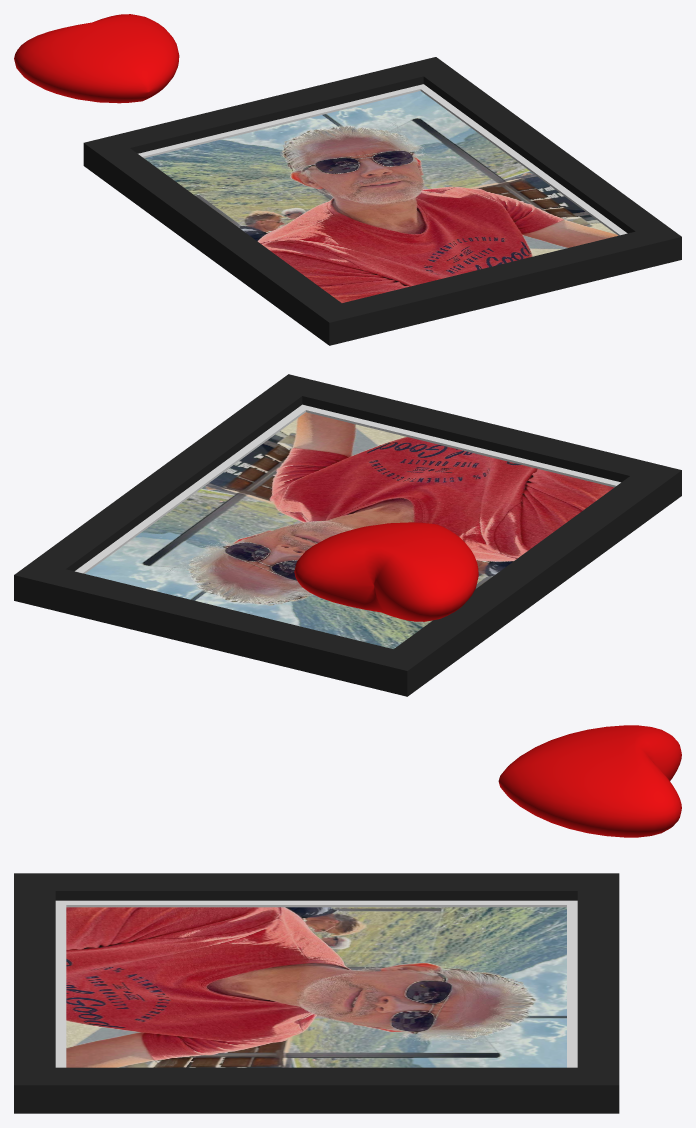
3 renders of one model, top to bottom at view 1: azimuth 30°, elevation 25°; view 2: azimuth 150°, elevation 25°; view 3: azimuth 270°, elevation 25°, orthographic. The views are drawn at different scales.
Visible parts, largest first — view 1: PhotoPlane.002, BuitenFrame, Hart, BinnenFrame; view 2: PhotoPlane.002, BuitenFrame, Hart, BinnenFrame; view 3: PhotoPlane.002, BuitenFrame, Hart, BinnenFrame.
Boxes of the visible parts, bbox=[...] form: PhotoPlane.002: bbox=[144, 91, 617, 302]; BuitenFrame: bbox=[83, 57, 681, 345]; Hart: bbox=[14, 14, 179, 103]; BinnenFrame: bbox=[138, 84, 627, 235]; PhotoPlane.002: bbox=[85, 412, 613, 648]; BuitenFrame: bbox=[14, 374, 681, 696]; Hart: bbox=[294, 522, 478, 621]; BinnenFrame: bbox=[75, 404, 620, 573]; PhotoPlane.002: bbox=[66, 907, 566, 1067]; BuitenFrame: bbox=[14, 873, 619, 1113]; Hart: bbox=[498, 725, 681, 837]; BinnenFrame: bbox=[55, 900, 577, 1067].
Bounding box in the file's own units: 0.5563 × 0.1754 × 0.6401.
Materials: 4 (1 with a texture image).
